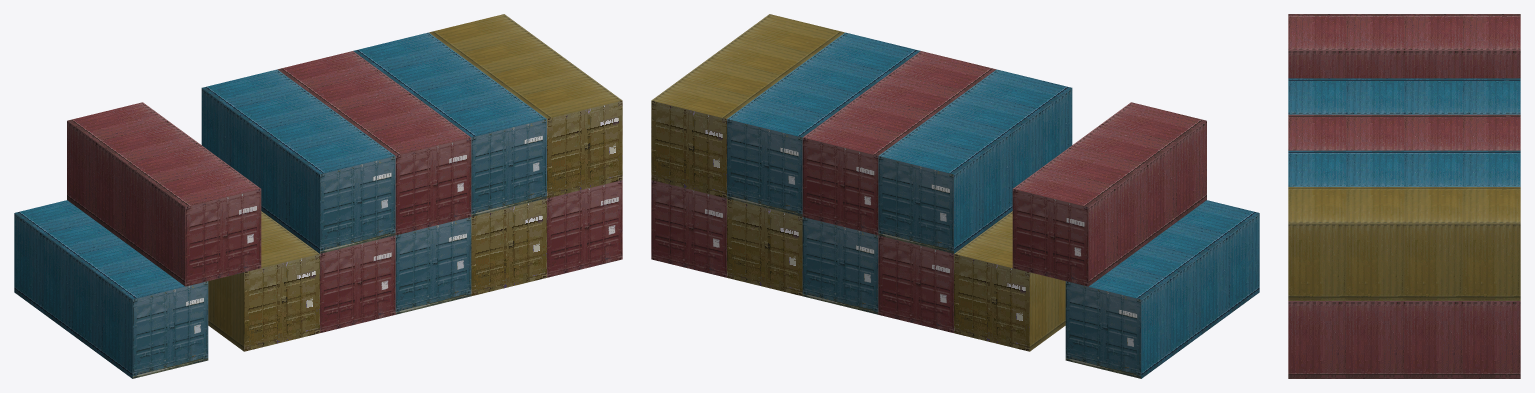
File: vgsefrght02.obj
3 views of the same model, side by side, from view 1: azimuth 30°, elevation 25°; view 2: azimuth 150°, elevation 25°; view 3: azimuth 270°, elevation 25° (orthographic).
Visible parts, largest first — view 1: vgsEfrght02; view 2: vgsEfrght02; view 3: vgsEfrght02.
Part boxes in pixels (bbox=[...]): vgsEfrght02: bbox=[14, 14, 622, 378]; vgsEfrght02: bbox=[651, 14, 1259, 378]; vgsEfrght02: bbox=[1288, 14, 1520, 378].
Size of the model in its own units: 22.18 by 6.87 by 9.27.
6 materials, 6 textured.
